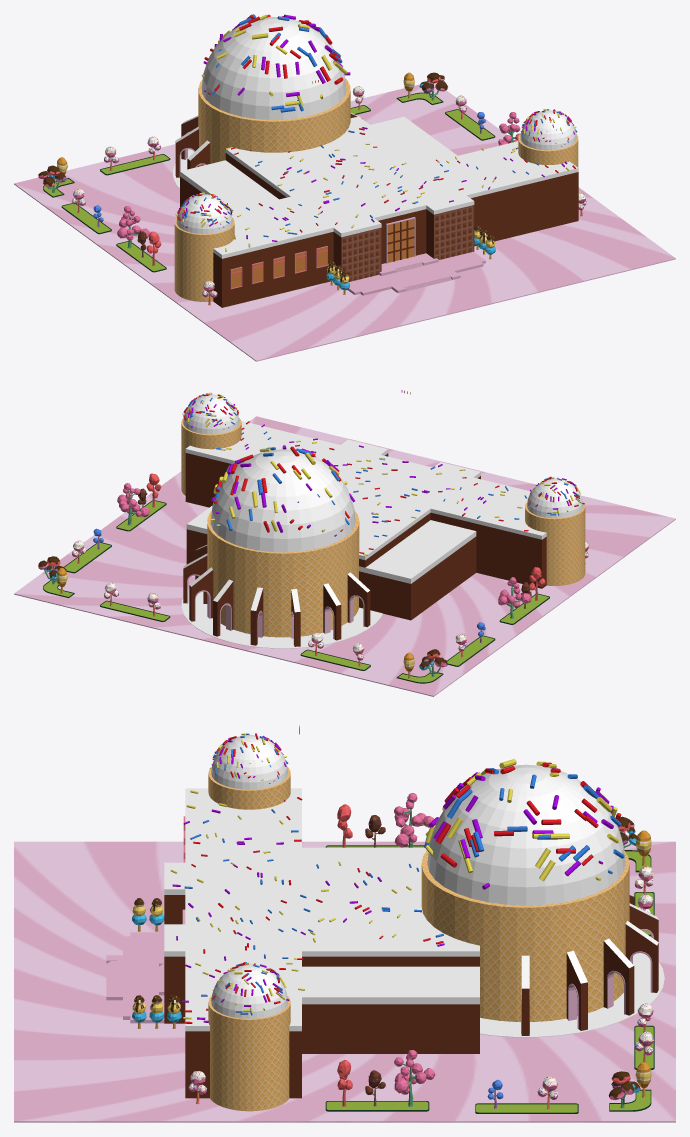
Rendered from Milestone.fbx.
3 views of the same model, one above another, from view 1: azimuth 30°, elevation 25°; view 2: azimuth 150°, elevation 25°; view 3: azimuth 270°, elevation 25° (orthographic). The views are drawn at different scales.
Parts seen in each view (by area): view 1: Plane.1350; view 2: Plane.1350; view 3: Plane.1350.
Boxes of the visible parts, x1,y1,x2,y2 form: Plane.1350: (14, 14, 675, 361); Plane.1350: (14, 390, 675, 696); Plane.1350: (14, 725, 675, 1122).
Size of the model in its own units: 13300 by 4985 by 13300.
25 materials, 5 textured.
